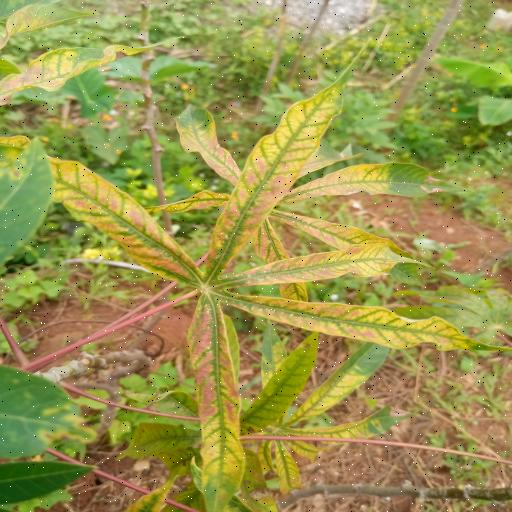Cassava_Mosaic: (33, 86, 478, 511)
